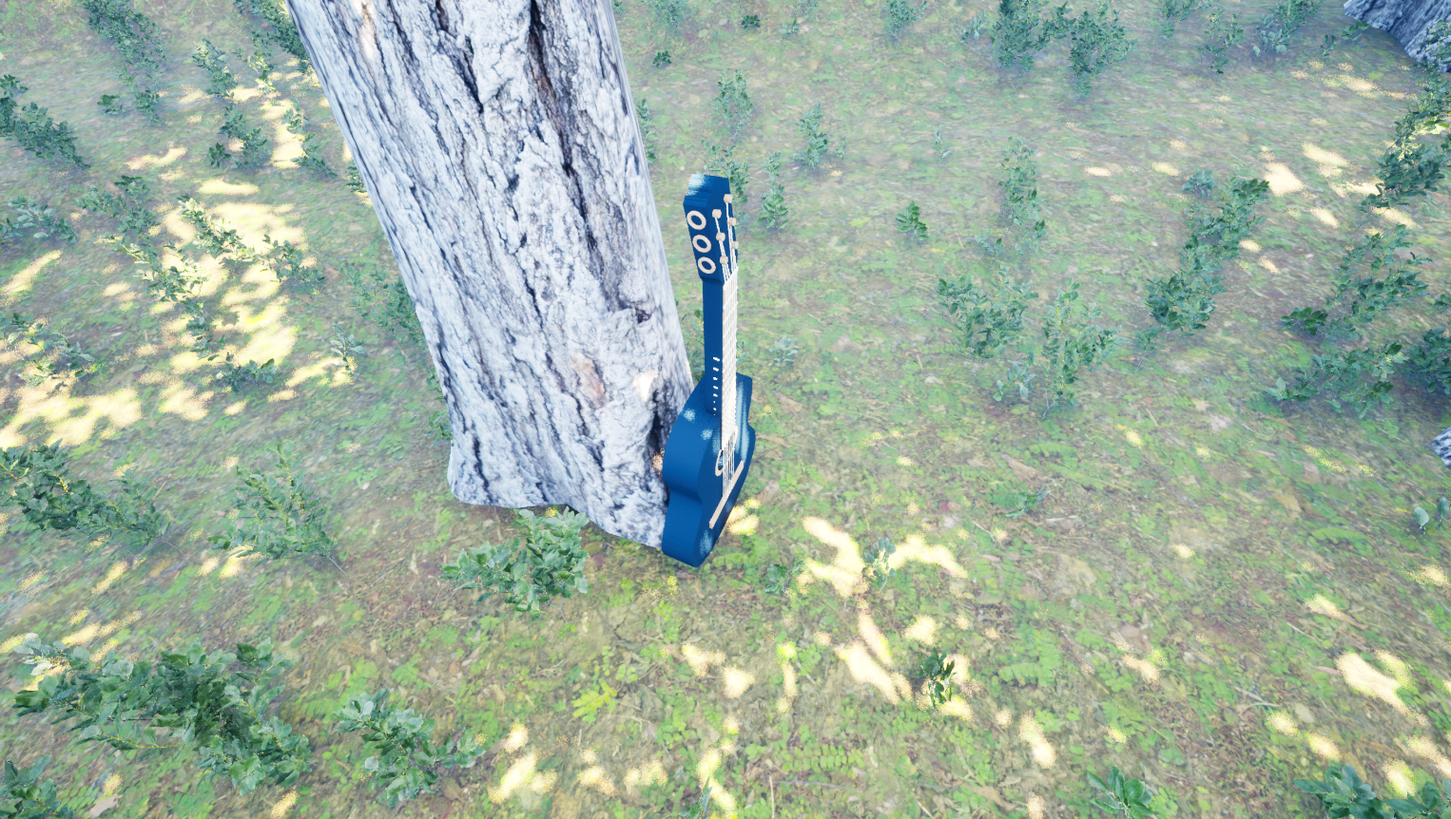Guitar: (604, 108, 782, 587)
